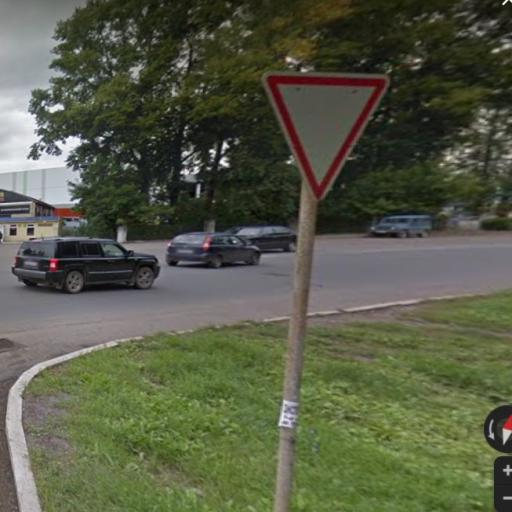traffic_sign: (258, 67, 396, 207)
